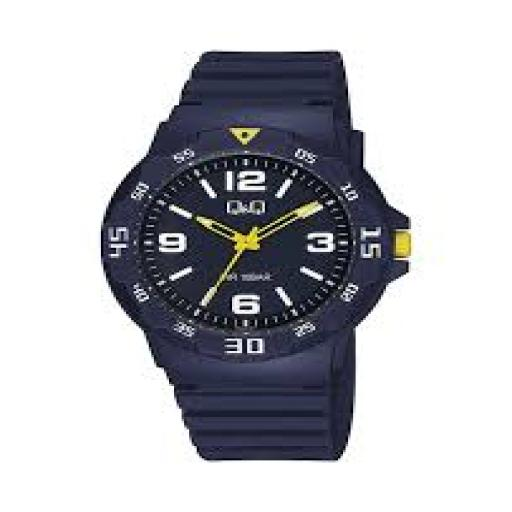KolSaati: (84, 23, 446, 473)
